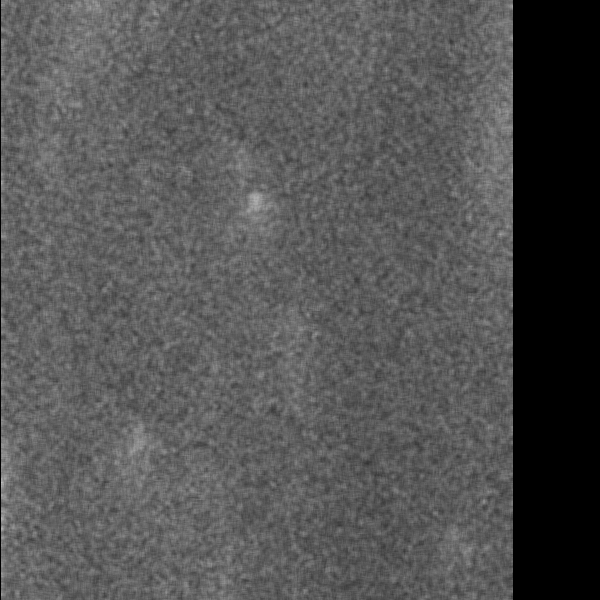spark: (243, 186, 270, 251), (123, 416, 143, 478)
